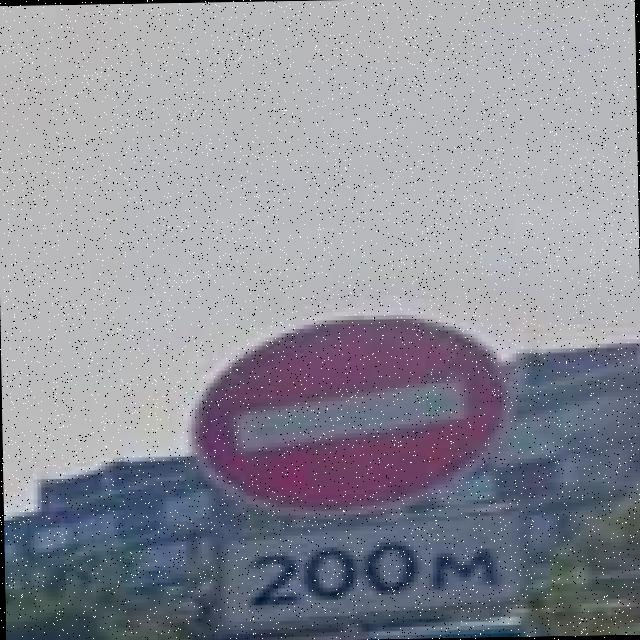Zakaz wjazdu: (186, 308, 518, 520)
